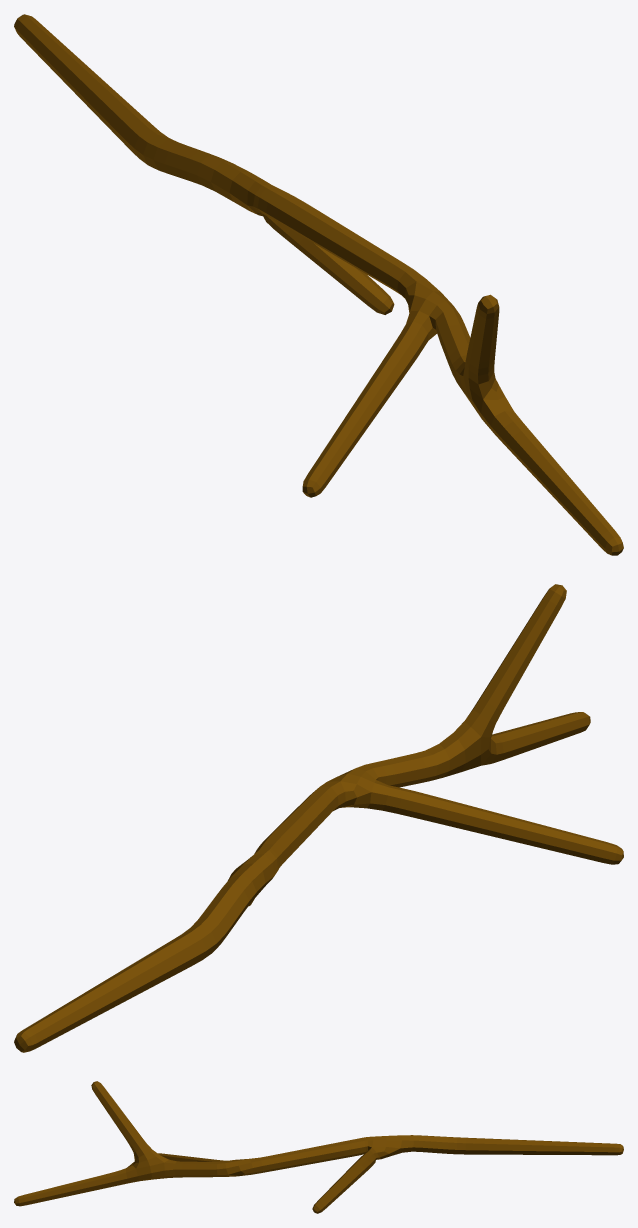
File: Branch 2.fbx
3 renders of one model, top to bottom at view 1: azimuth 30°, elevation 25°; view 2: azimuth 150°, elevation 25°; view 3: azimuth 270°, elevation 25°, orthographic. The views are drawn at different scales.
Parts seen in each view (by area): view 1: Plane.002; view 2: Plane.002; view 3: Plane.002.
Boxes of the visible parts, box(x1,y1,x2,y2) form: Plane.002: box(14, 14, 623, 555); Plane.002: box(14, 584, 623, 1052); Plane.002: box(14, 1081, 623, 1213).
Size of the model in its own units: 48.96 by 41.41 by 205.
